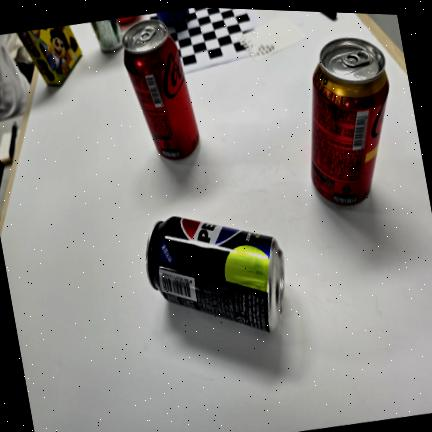can_coke_decaf: (312, 35, 391, 211)
can_coke_zero: (122, 21, 200, 161)
can_pepsi_zero: (144, 216, 283, 333)
